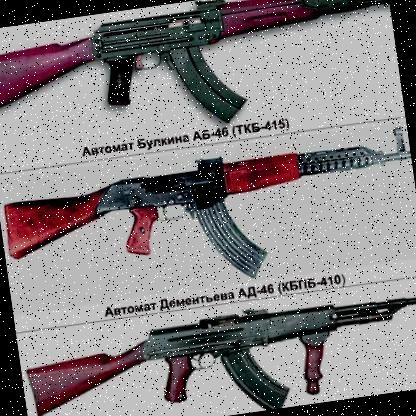rifle: (0, 118, 416, 304), (0, 0, 403, 157), (22, 279, 416, 416)
